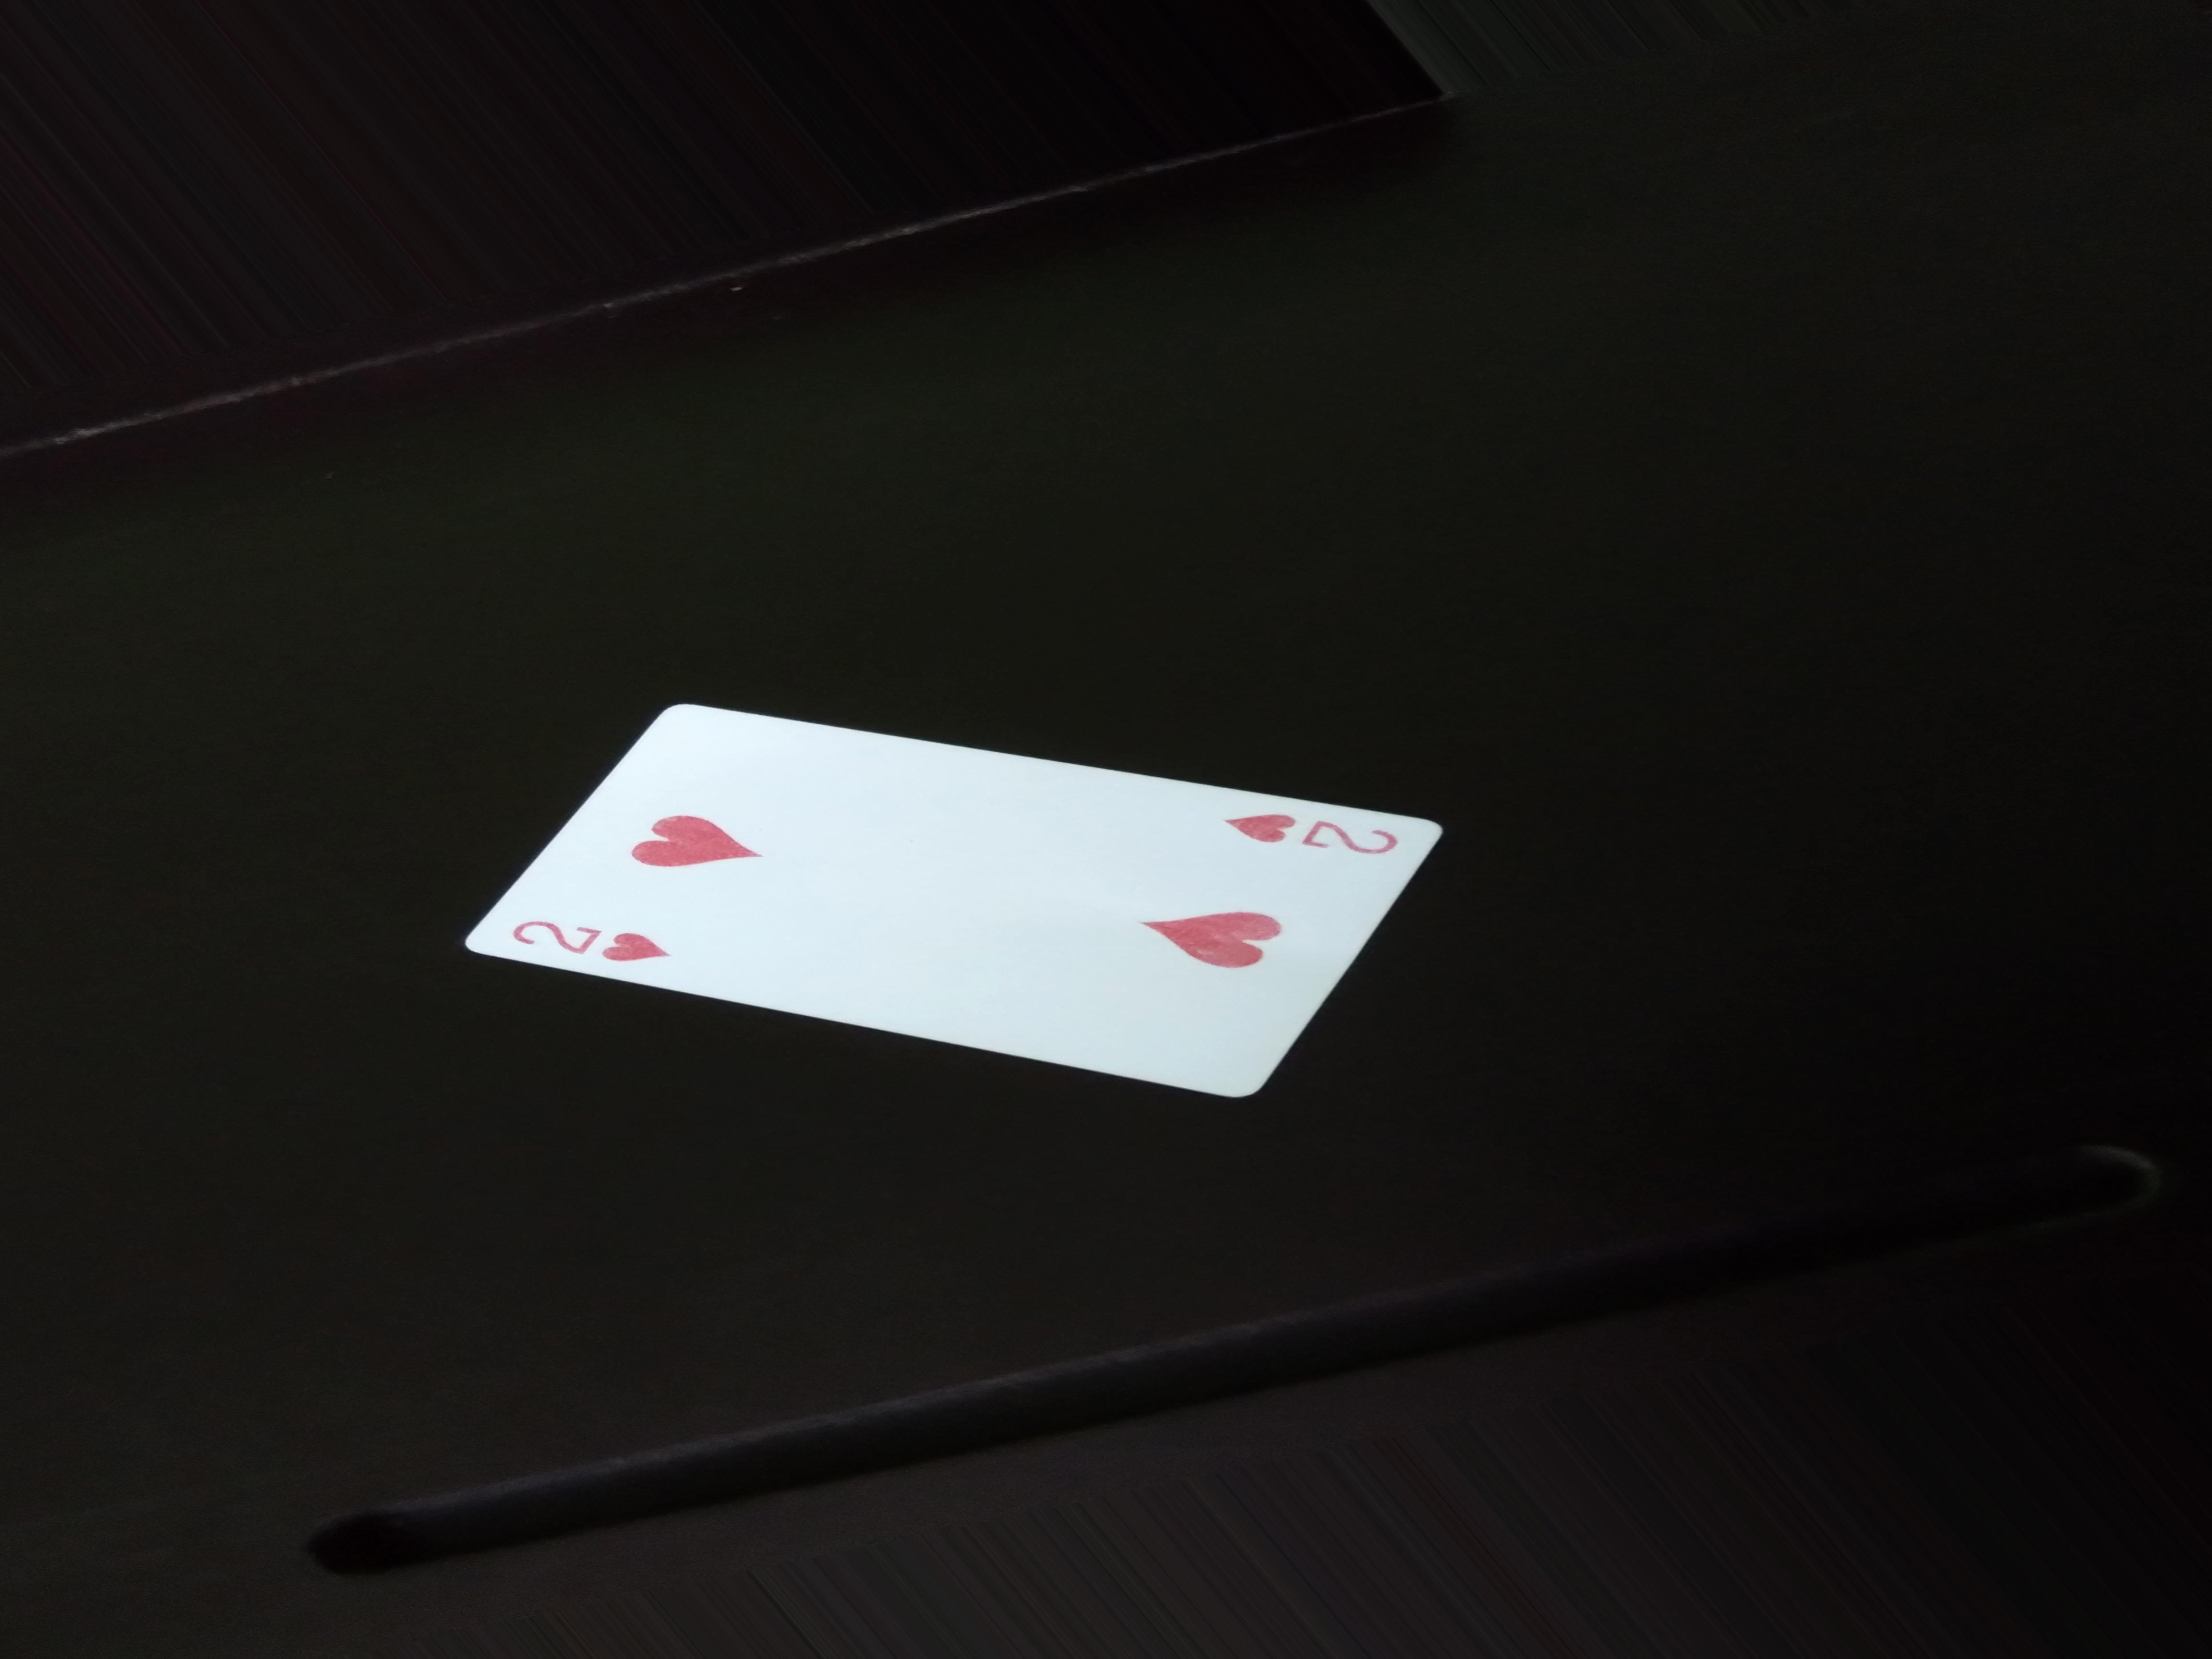2H: (496, 897, 691, 974)
